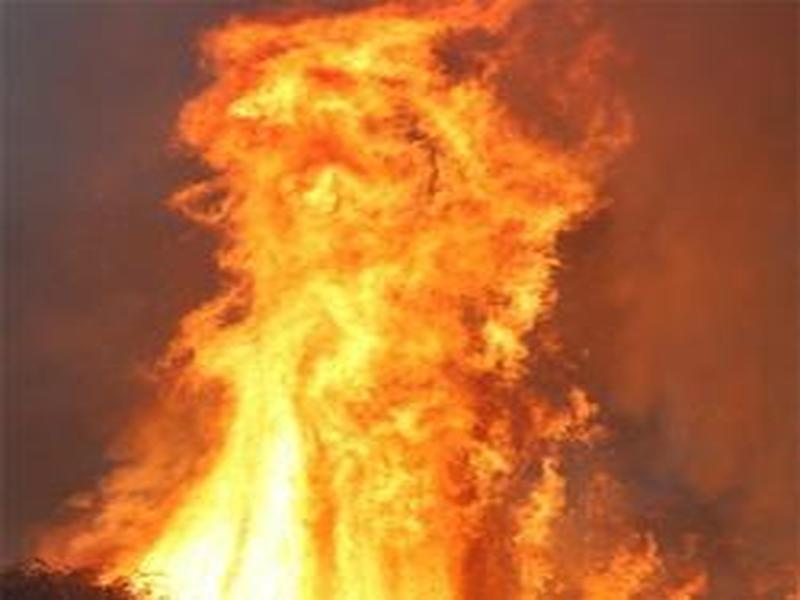FIRE: (110, 26, 637, 597)
